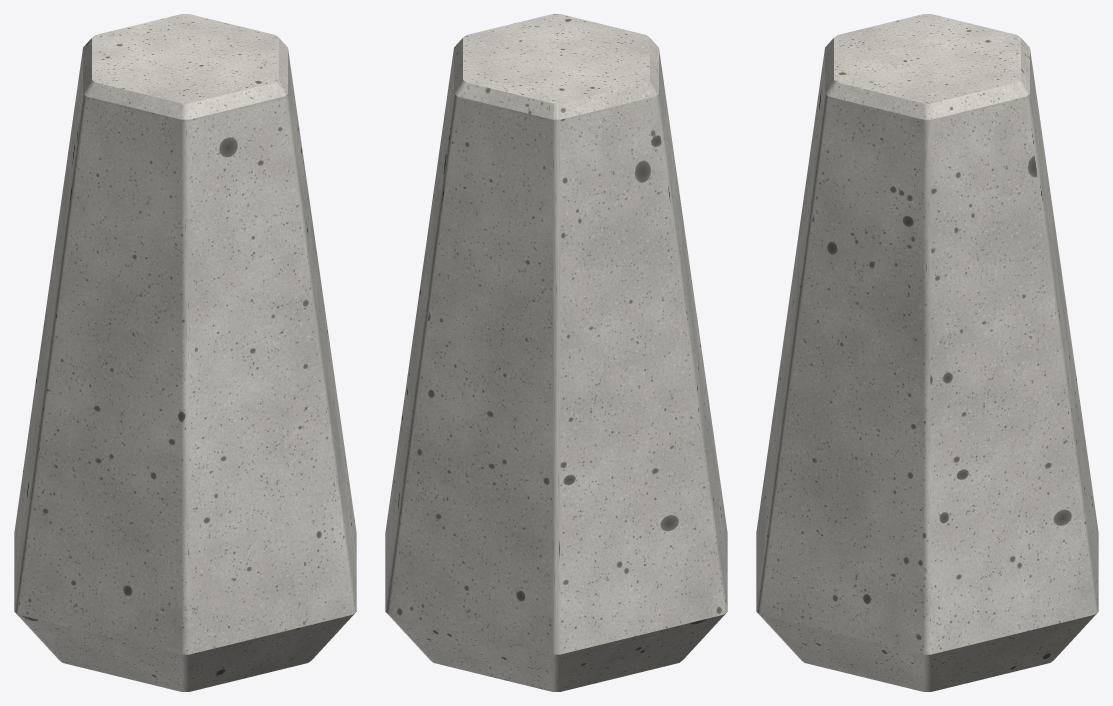
Rendered from pawn-white-hd.glb.
The picture shows the model from 3 angles, left to right: view 1: azimuth 30°, elevation 25°; view 2: azimuth 150°, elevation 25°; view 3: azimuth 270°, elevation 25°; orthographic projection.
Parts seen in each view (by area): view 1: HEXALITH_white_pawn; view 2: HEXALITH_white_pawn; view 3: HEXALITH_white_pawn.
Part boxes in pixels (x1,y1,x2,y2): HEXALITH_white_pawn: (14, 14, 356, 691); HEXALITH_white_pawn: (385, 14, 727, 691); HEXALITH_white_pawn: (756, 14, 1098, 691).
Bounding box in the file's own units: 0.5442 × 0.88 × 0.4767.
1 material, 1 textured.
